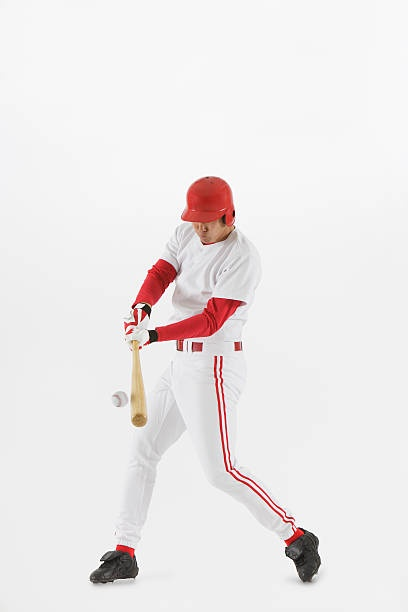bita: (126, 335, 147, 435)
